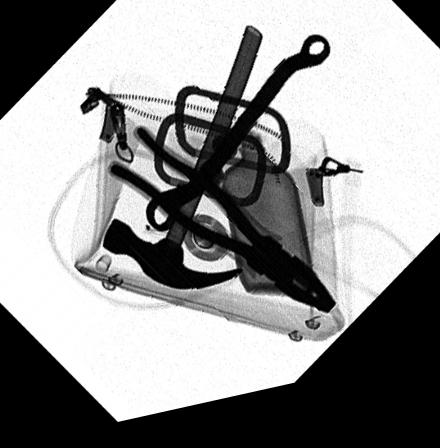Hammer: (98, 35, 262, 301)
Pliers: (104, 131, 339, 331)
Wrench: (144, 43, 331, 241)
